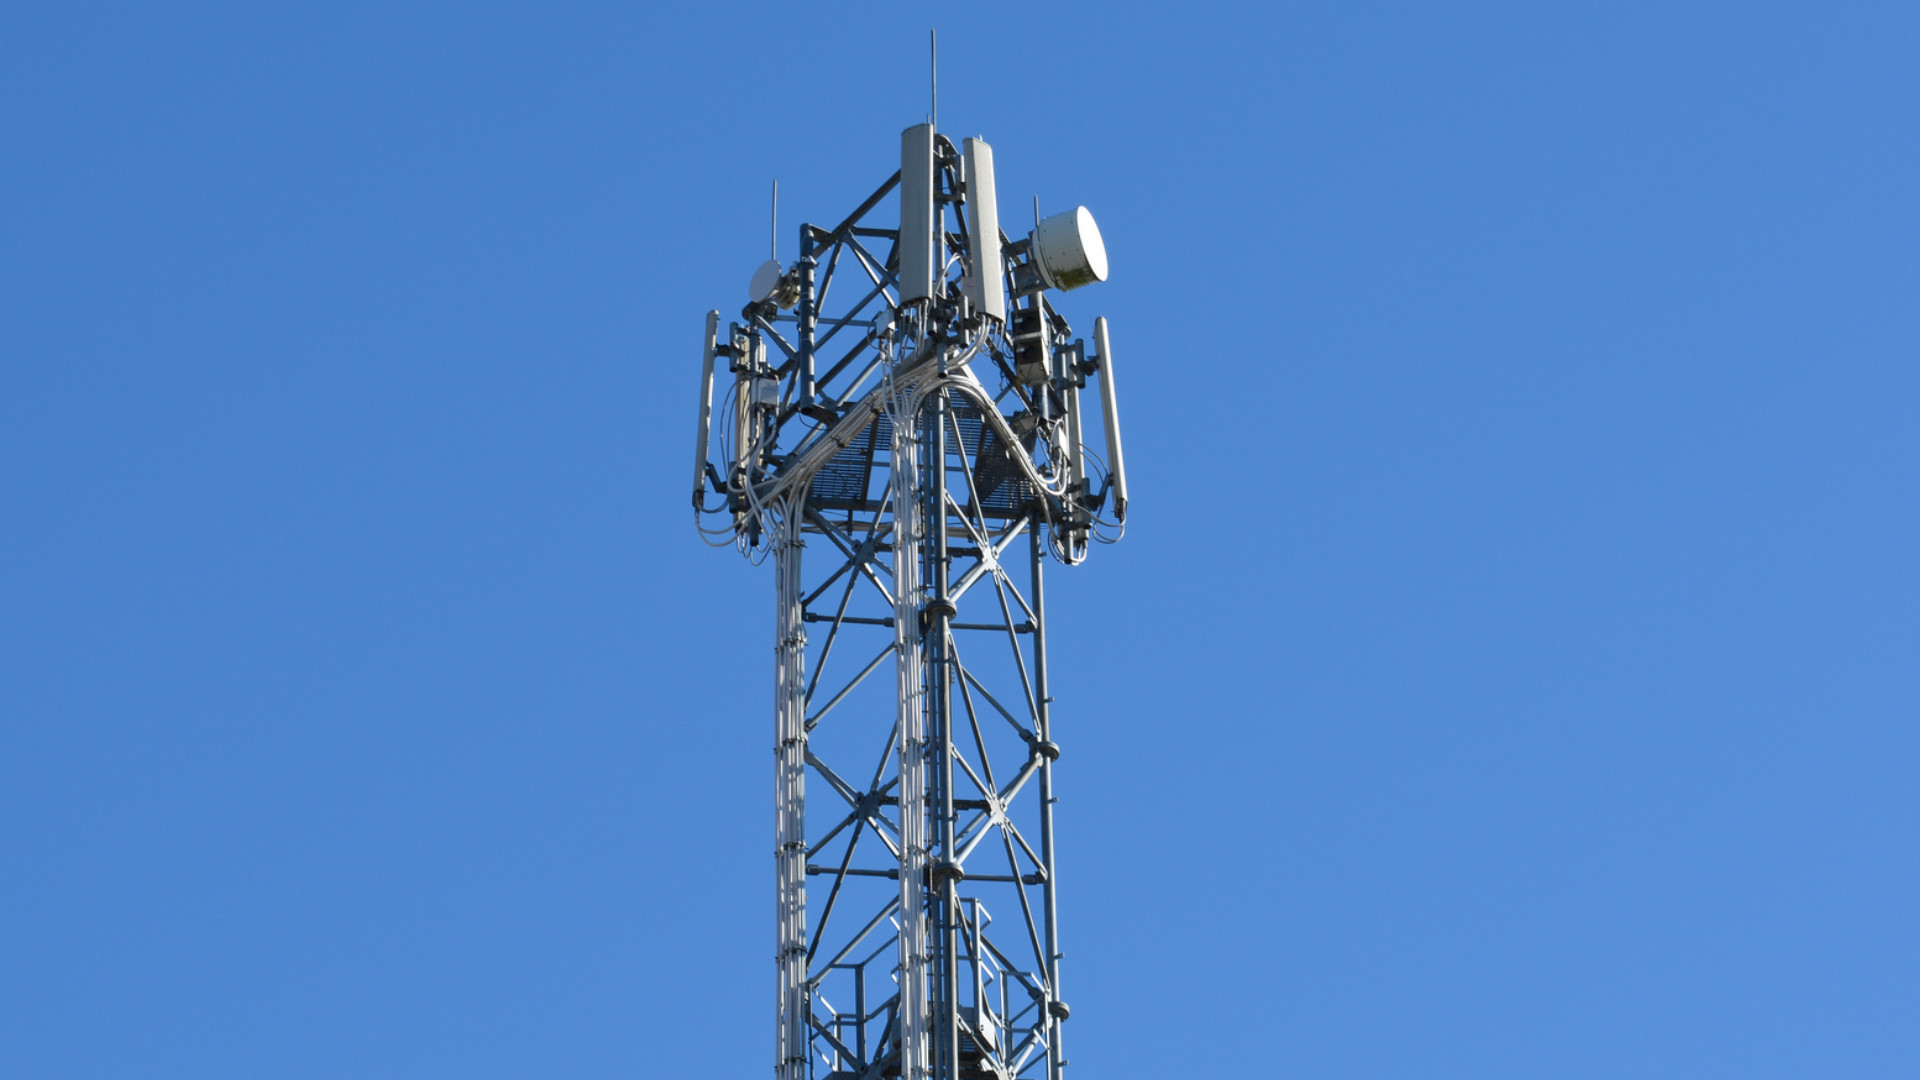ba: (1031, 189, 1121, 309)
sa: (891, 100, 949, 348), (1073, 327, 1131, 520), (682, 289, 731, 502), (969, 127, 1013, 319), (795, 219, 837, 410)
